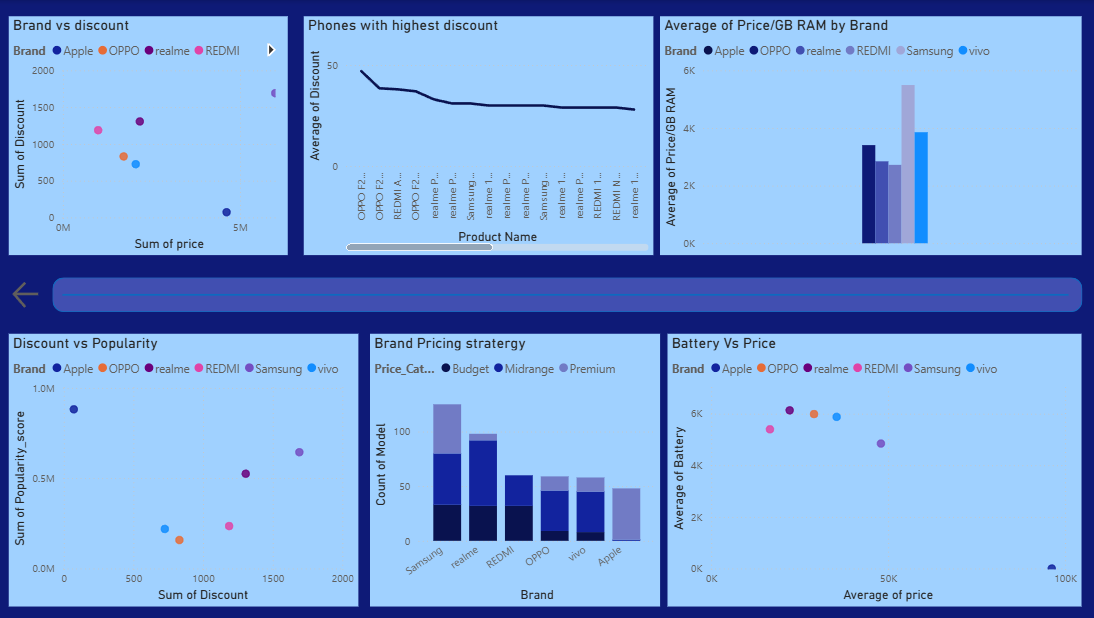

This screenshot's page, from the dashboard's own definition file:
{"tool":"powerbi","page":{"name":"Page 2","canvas":[1280,720],"ordinal":1},"visuals":[{"type":"scatterChart","title":"Brand vs discount","fields":{"X":["Sum(Flipkart Smartphone Analysis.price)"],"Y":["Sum(Flipkart Smartphone Analysis.Discount)"],"Category":["Flipkart Smartphone Analysis.Brand"],"Series":["Flipkart Smartphone Analysis.Brand"]},"box":[16.2,18.8,322.5,276.2],"z":0},{"type":"lineChart","title":"Phones with highest discount","fields":{"Y":["Avg(Flipkart Smartphone Analysis.Discount)"],"Category":["Flipkart Smartphone Analysis.Product Name"]},"box":[356.2,18.8,403.8,276.2],"z":1000},{"type":"scatterChart","title":"Discount vs Popularity","fields":{"X":["Sum(Flipkart Smartphone Analysis.Discount)"],"Y":["Sum(Flipkart Smartphone Analysis.Popularity_score)"],"Series":["Flipkart Smartphone Analysis.Brand"]},"box":[16.2,385,403.8,315],"z":2000},{"type":"scatterChart","title":"Battery Vs Price","fields":{"X":["Avg(Flipkart Smartphone Analysis.price)"],"Series":["Flipkart Smartphone Analysis.Brand"],"Y":["Avg(Flipkart Smartphone Analysis.Battery)"]},"box":[777.5,385,478.8,315],"z":3000},{"type":"clusteredColumnChart","fields":{"Y":["Avg(Flipkart Smartphone Analysis.Price/GB RAM)"],"Series":["Flipkart Smartphone Analysis.Brand"]},"box":[768.8,18.8,487.5,276.2],"z":4000},{"type":"actionButton","box":[16.2,320,100,40],"z":5000},{"type":"shape","box":[66.2,320,1190,40],"z":6000},{"type":"shape","box":[77.5,190,1162.5,300],"z":7000},{"type":"columnChart","title":"Brand Pricing stratergy","fields":{"Category":["Flipkart Smartphone Analysis.Brand"],"Series":["Flipkart Smartphone Analysis.Price_Catogery"],"Y":["CountNonNull(Flipkart Smartphone Analysis.Model)"]},"box":[433.8,385,335,315],"z":8000}]}

Visuals, with their boxes in screenshot pixels (x1, y1, x2, y2), scaled from the page's 1280x720 canvas onto the 1094x618 screenshot:
"Brand vs discount" scatterChart: [14, 16, 289, 253]
"Phones with highest discount" lineChart: [304, 16, 650, 253]
"Discount vs Popularity" scatterChart: [14, 330, 359, 601]
"Battery Vs Price" scatterChart: [665, 330, 1074, 601]
clusteredColumnChart - Avg(Flipkart Smartphone Analysis.Price/GB RAM) x Flipkart Smartphone Analysis.Brand: [657, 16, 1074, 253]
actionButton: [14, 275, 99, 309]
shape: [57, 275, 1074, 309]
shape: [66, 163, 1060, 421]
"Brand Pricing stratergy" columnChart: [371, 330, 657, 601]
